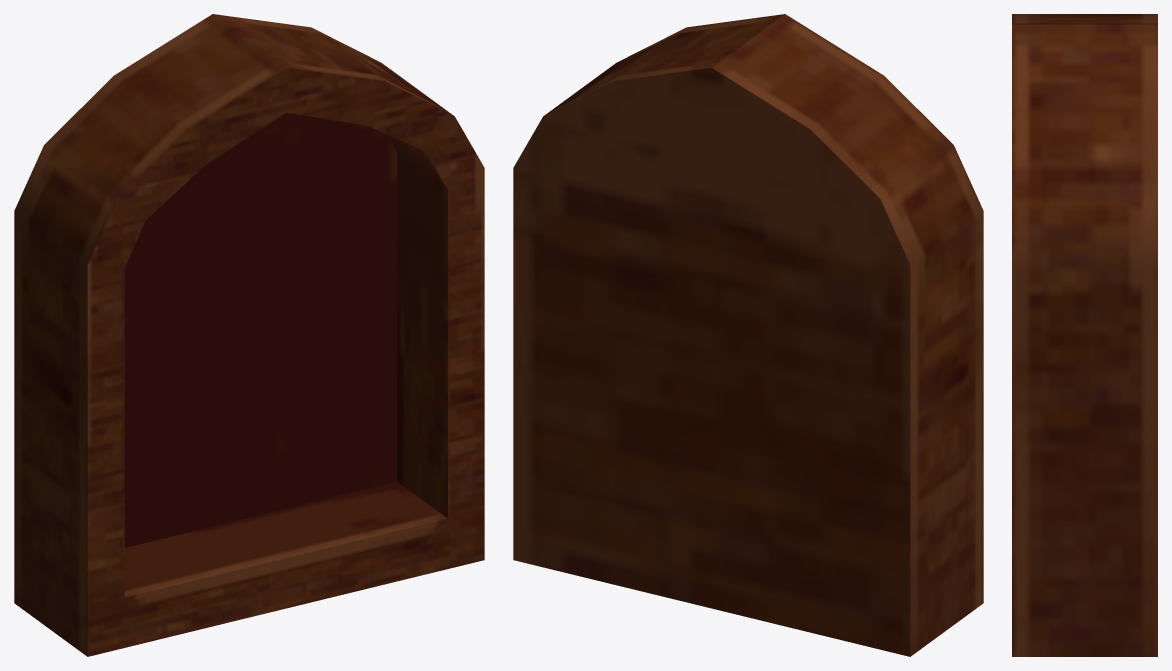
The model's file is nicho.glb.
3 renders of one model, left to right at view 1: azimuth 30°, elevation 25°; view 2: azimuth 150°, elevation 25°; view 3: azimuth 270°, elevation 25°, orthographic.
Parts seen in each view (by area): view 1: nicho_geo; view 2: nicho_geo; view 3: nicho_geo.
Boxes of the visible parts, bbox=[...] form: nicho_geo: bbox=[14, 14, 484, 656]; nicho_geo: bbox=[513, 14, 983, 656]; nicho_geo: bbox=[1012, 14, 1157, 656].
Size of the model in its own units: 1.43 by 1.86 by 0.4592.
Materials: 1 (1 with a texture image).
